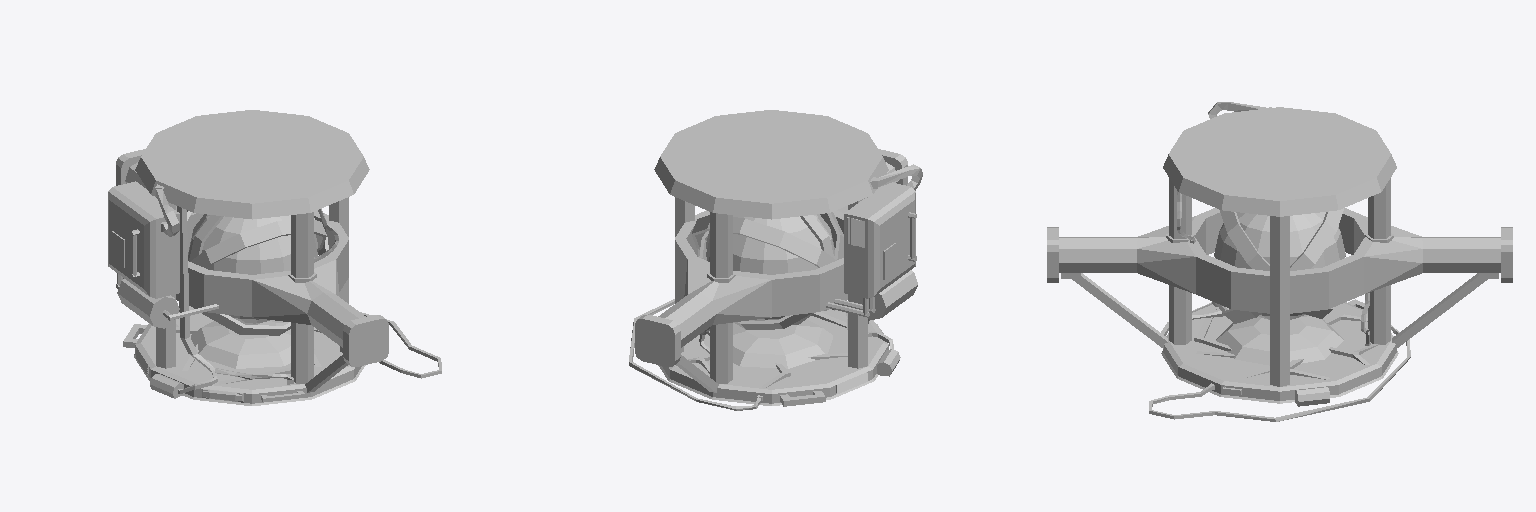
Rendered from WarpEngineCore.obj.
3 views of the same model, side by side, from view 1: azimuth 30°, elevation 25°; view 2: azimuth 150°, elevation 25°; view 3: azimuth 270°, elevation 25° (orthographic).
Visible parts, largest first — view 1: Circle; view 2: Circle; view 3: Circle.
Part boxes in pixels (x1,y1,x2,y2): Circle: (108,110,441,405); Circle: (629,110,922,410); Circle: (1047,102,1512,421).
Size of the model in its own units: 5.36 by 3.77 by 7.95.